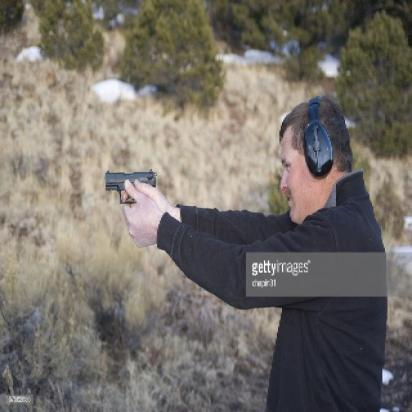Gun: (99, 165, 162, 206)
